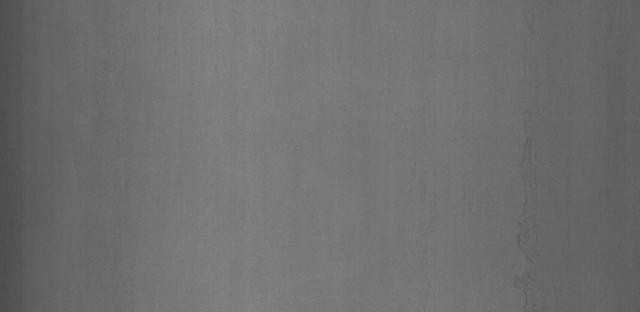silk_spot: (495, 70, 561, 290)
